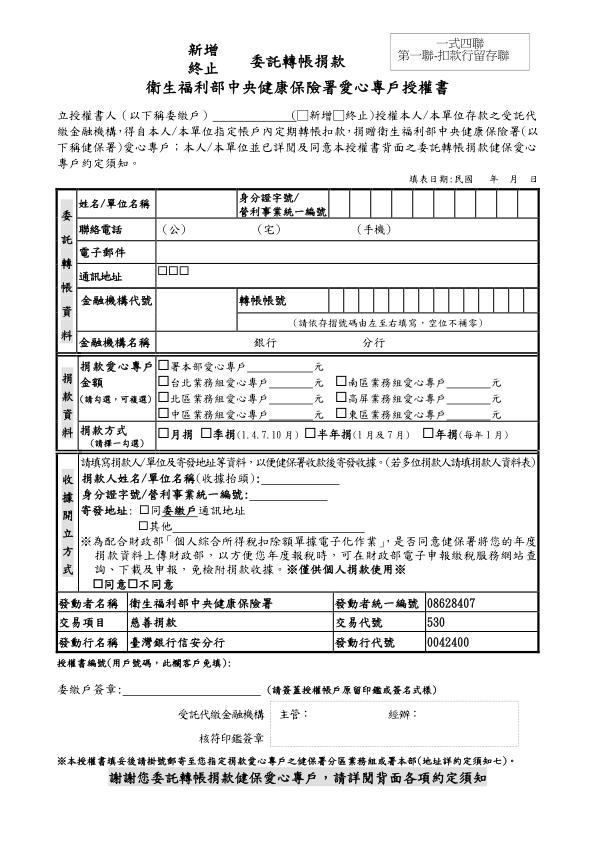check_box: (295, 107, 309, 121), (334, 108, 346, 122)
input: (213, 102, 293, 122)
table: (53, 187, 546, 656)
text: (54, 124, 544, 171), (54, 755, 521, 795), (176, 37, 347, 77), (142, 79, 451, 100), (393, 34, 518, 66), (53, 105, 209, 125), (347, 109, 540, 124), (266, 683, 442, 699), (52, 658, 234, 671), (55, 680, 123, 702), (406, 173, 541, 184), (177, 707, 267, 722), (195, 729, 268, 747), (383, 704, 427, 724), (278, 707, 310, 724), (309, 107, 335, 125)
